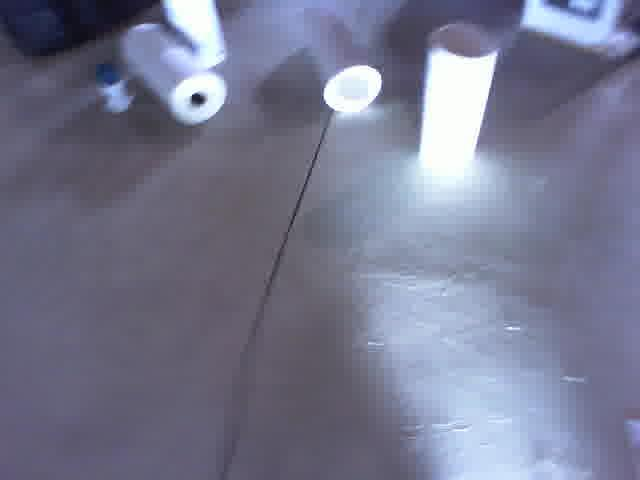coral: (417, 23, 499, 179), (293, 7, 381, 113)
